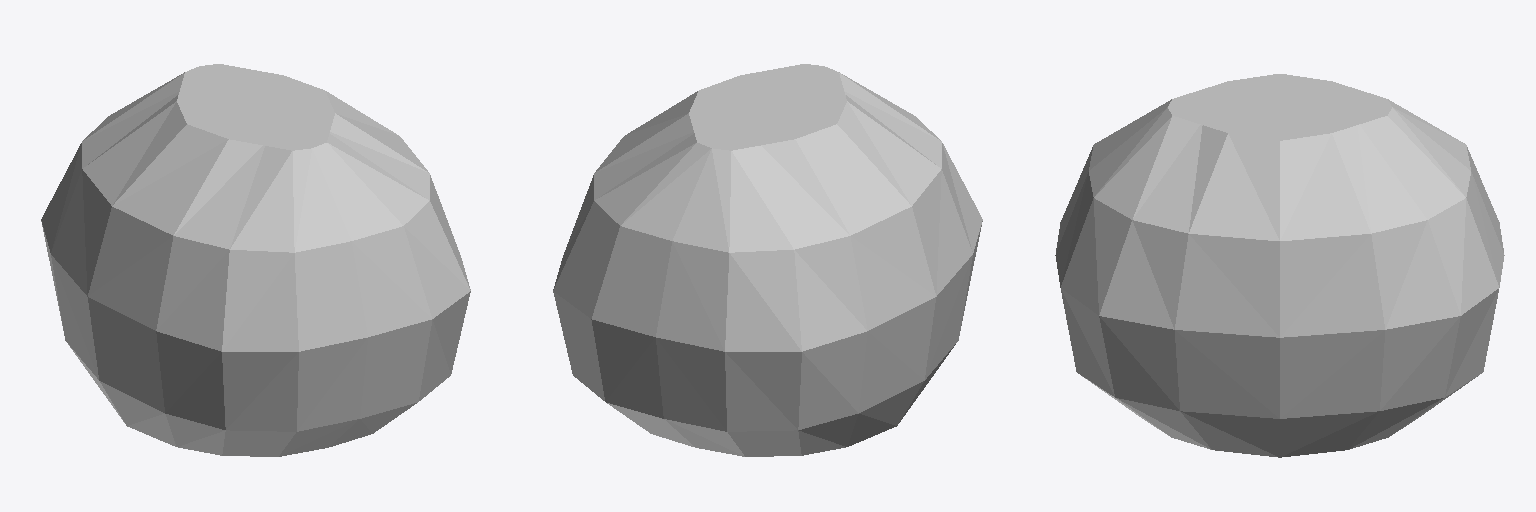
The model's file is ropaCalabazo.obj.
The picture shows the model from 3 angles: view 1: azimuth 30°, elevation 25°; view 2: azimuth 150°, elevation 25°; view 3: azimuth 270°, elevation 25°; orthographic projection.
Visible parts, largest first — view 1: calabazoCalabaza; view 2: calabazoCalabaza; view 3: calabazoCalabaza.
Boxes of the visible parts, <box> form: calabazoCalabaza: <box>41,64,470,456</box>; calabazoCalabaza: <box>553,64,982,456</box>; calabazoCalabaza: <box>1055,74,1504,457</box>.
Bounding box in the file's own units: 2.06 × 1.74 × 2.38.